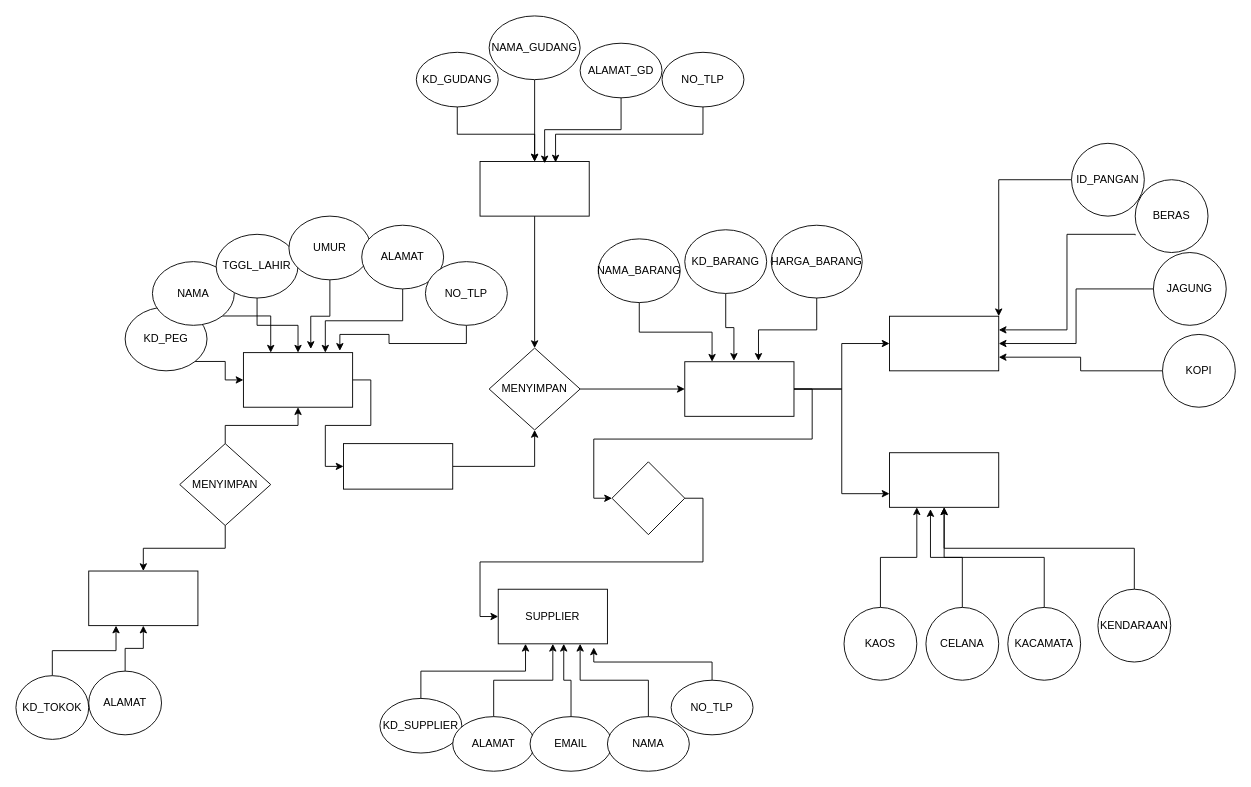
This 1251x787 diagram has some shape labels left out. Each missing label, with the box of its shape:
BARANG: (684, 361, 794, 416)
GUDANG: (479, 161, 589, 216)
MENGIRIM: (611, 461, 685, 535)
PANGAN: (889, 315, 999, 371)
PEGAWAI: (243, 352, 353, 407)
PEGAWAI GUDANG: (343, 443, 453, 489)
SANDANG: (889, 452, 999, 507)
TOKOK: (88, 570, 198, 626)
